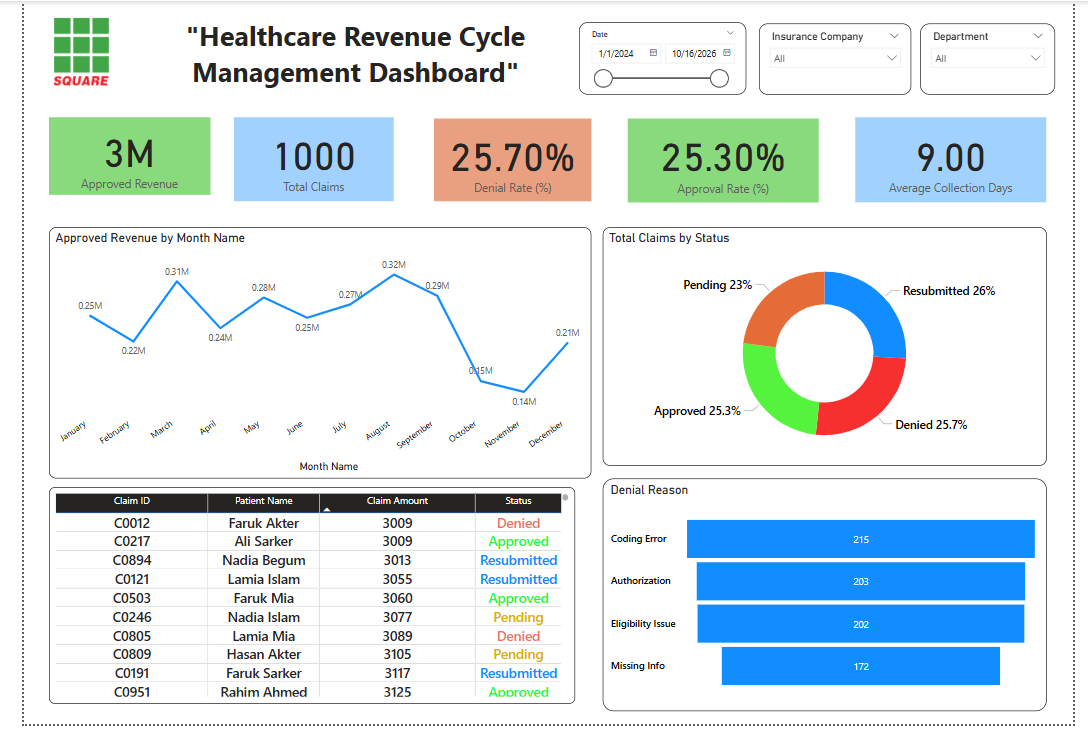

What the dashboard file says about the page in this screenshot:
{"tool":"powerbi","page":{"name":"Page 1","canvas":[1450,1000],"ordinal":0},"visuals":[{"type":"image","box":[15.7,0,148.3,137.8],"z":0},{"type":"card","fields":{"Values":["Mas_.Approved Revenue"]},"box":[34.6,160.7,222.9,107.1],"z":1000},{"type":"card","fields":{"Values":["Mas_.Total Claims"]},"box":[290.3,160.7,221.1,115.8],"z":2000},{"type":"card","fields":{"Values":["Mas_.Approval Rate (%)"]},"box":[834.5,162.4,264.3,115.8],"z":3000},{"type":"card","fields":{"Values":["Mas_.Denial Rate (%)"]},"box":[566.7,162.4,217.7,114],"z":4000},{"type":"card","fields":{"Values":["Mas_.Average Collection Days"]},"box":[1148.9,160.7,264.3,117.5],"z":5000},{"type":"lineChart","fields":{"Category":["Date Table.Month Name"],"Y":["Mas_.Approved Revenue"]},"box":[34.6,312.7,749.8,347.3],"z":6000},{"type":"donutChart","fields":{"Category":["Sheet1.Status"],"Y":["Mas_.Total Claims"]},"box":[799.9,312.7,613.3,330],"z":7000},{"type":"funnel","title":" Denial Reason ","fields":{"Category":["Sheet1.Denial Reason"],"Y":["CountNonNull(Sheet1.Denial Reason)"]},"box":[799.9,660,613.3,321.4],"z":8000},{"type":"tableEx","fields":{"Values":["Sheet1.Claim ID","Sheet1.Patient Name","Sum(Sheet1.Claim Amount)","Sheet1.Status"]},"box":[34.6,672.1,727.4,298.9],"z":9000},{"type":"textbox","box":[148.3,17.4,619.2,111.6],"z":10000},{"type":"slicer","fields":{"Values":["Date Table.Date"]},"box":[767.1,29.4,231.5,100.2],"z":11000},{"type":"slicer","fields":{"Values":["Sheet1.Insurance Company"]},"box":[1015.9,31.1,210.8,98.5],"z":12000},{"type":"slicer","fields":{"Values":["Sheet1.Department"]},"box":[1238.8,31.1,186.6,98.5],"z":13000}]}

Visuals, with their boxes in screenshot pixels (x1, y1, x2, y2), scaled from the page's 1450x1000 canvas onto the 1088x729 screenshot:
image: locate(12, 0, 123, 100)
card - Mas_.Approved Revenue: locate(26, 117, 193, 195)
card - Mas_.Total Claims: locate(218, 117, 384, 202)
card - Mas_.Approval Rate (%): locate(626, 118, 824, 203)
card - Mas_.Denial Rate (%): locate(425, 118, 589, 201)
card - Mas_.Average Collection Days: locate(862, 117, 1060, 203)
lineChart - Date Table.Month Name x Mas_.Approved Revenue: locate(26, 228, 589, 481)
donutChart - Sheet1.Status x Mas_.Total Claims: locate(600, 228, 1060, 469)
" Denial Reason " funnel: locate(600, 481, 1060, 715)
tableEx - Sheet1.Claim ID x Sheet1.Patient Name: locate(26, 490, 572, 708)
textbox: locate(111, 13, 576, 94)
slicer - Date Table.Date: locate(576, 21, 749, 94)
slicer - Sheet1.Insurance Company: locate(762, 23, 920, 94)
slicer - Sheet1.Department: locate(930, 23, 1070, 94)
